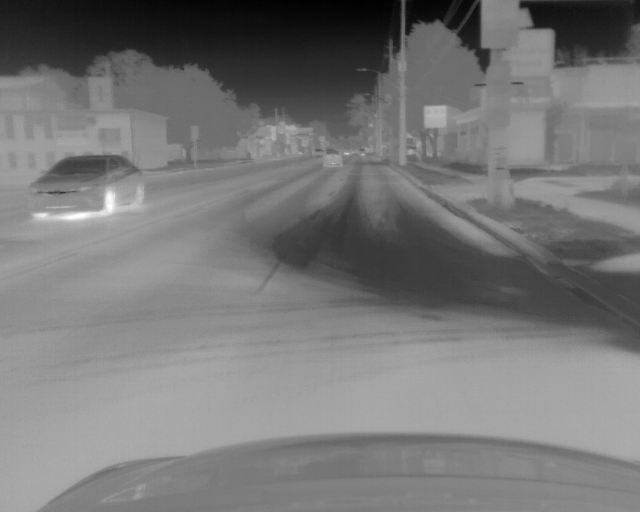car: (26, 154, 147, 219), (324, 150, 343, 168)
